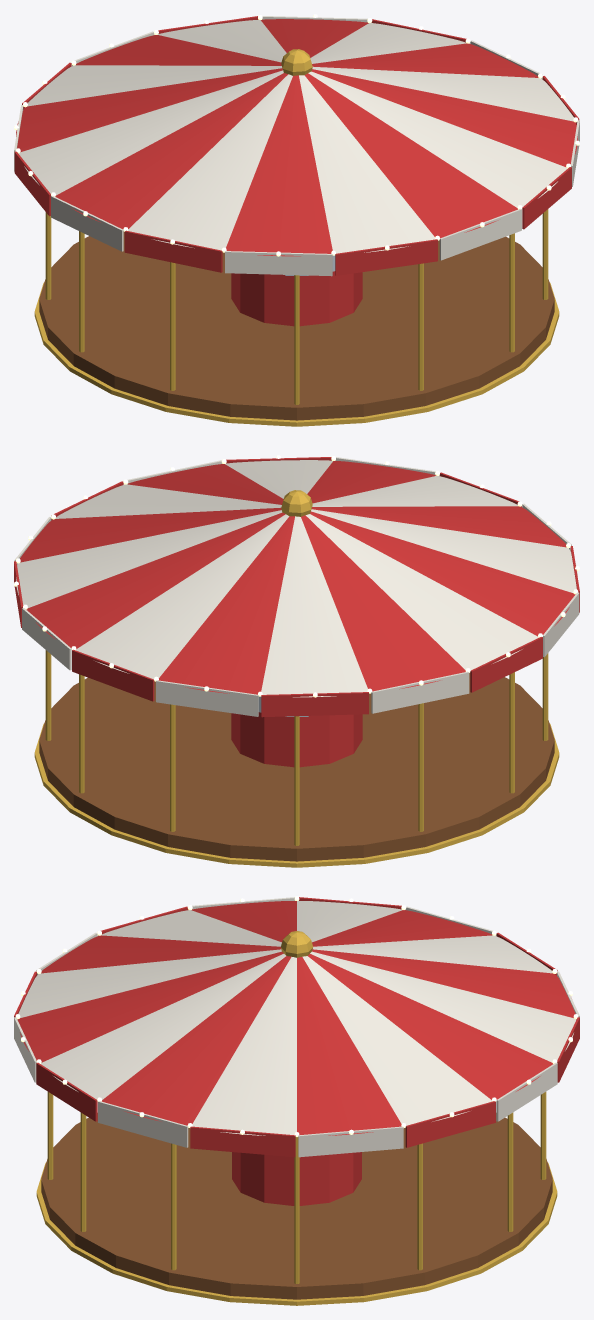
Rendered from fair_carousel.glb.
3 views of the same model, one above another, from view 1: azimuth 30°, elevation 25°; view 2: azimuth 150°, elevation 25°; view 3: azimuth 270°, elevation 25° (orthographic).
Parts seen in each view (by area): view 1: deck_fair_deck, roof_fair_red, roof_fair_white, drum_fair_red, poles_fair_gold, deck_fair_gold, bulbs_fair_bulb, roof_fair_gold; view 2: deck_fair_deck, roof_fair_white, roof_fair_red, drum_fair_red, poles_fair_gold, deck_fair_gold, bulbs_fair_bulb, roof_fair_gold; view 3: deck_fair_deck, roof_fair_red, roof_fair_white, drum_fair_red, poles_fair_gold, deck_fair_gold, bulbs_fair_bulb, roof_fair_gold.
Part boxes in pixels (x1,y1,x2,y2): deck_fair_deck: (39,231,554,420); roof_fair_red: (14,16,579,275); roof_fair_white: (14,16,579,276); drum_fair_red: (231,271,362,326); poles_fair_gold: (45,209,548,404); deck_fair_gold: (34,282,559,426); bulbs_fair_bulb: (14,14,579,256); roof_fair_gold: (281,49,312,75); deck_fair_deck: (39,672,554,861); roof_fair_white: (14,457,579,716); roof_fair_red: (14,457,579,717); drum_fair_red: (231,712,362,767); poles_fair_gold: (45,650,548,845); deck_fair_gold: (34,723,559,867); bulbs_fair_bulb: (14,455,579,697); roof_fair_gold: (281,490,312,516); deck_fair_deck: (41,1113,552,1299); roof_fair_red: (14,897,579,1157); roof_fair_white: (14,897,579,1157); drum_fair_red: (232,1152,361,1205); poles_fair_gold: (47,1092,546,1283); deck_fair_gold: (36,1162,557,1305); bulbs_fair_bulb: (15,896,578,1136); roof_fair_gold: (281,931,312,957).
Size of the model in its own units: 12.17 by 6.25 by 12.17.
